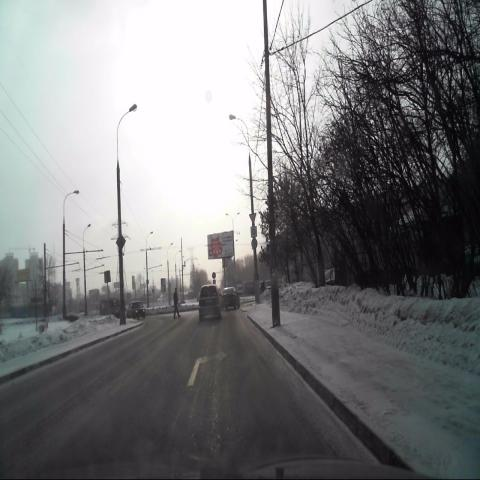2_4: (249, 212, 256, 224)
5_19_1: (266, 244, 274, 257)
8_13_1: (250, 226, 257, 237)
